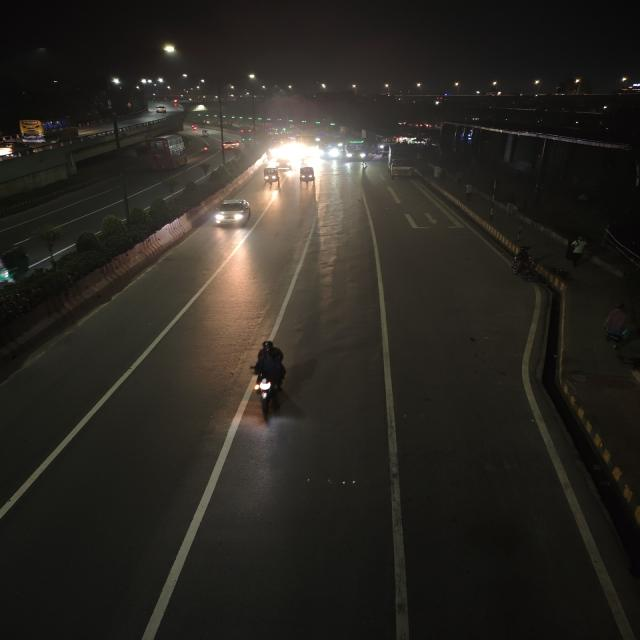bus: (134, 134, 190, 170), (16, 116, 80, 145), (343, 134, 371, 161), (318, 137, 342, 161)
car: (211, 199, 260, 228), (274, 157, 294, 170), (223, 139, 235, 151), (153, 105, 168, 114)
cng: (258, 166, 282, 187), (296, 167, 316, 186), (200, 130, 212, 139)
motorcycle: (240, 342, 297, 415), (508, 248, 544, 287), (201, 142, 212, 153)
truck: (382, 143, 418, 180)
